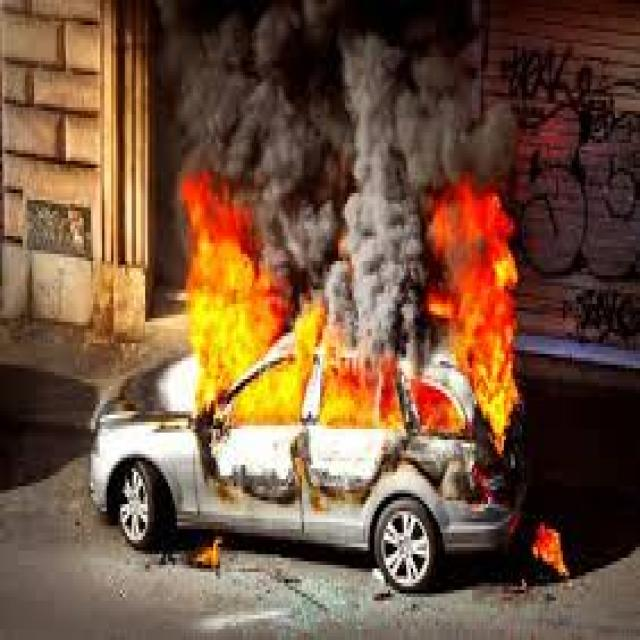Fire: (168, 164, 540, 502)
Smoke: (150, 9, 532, 146)
